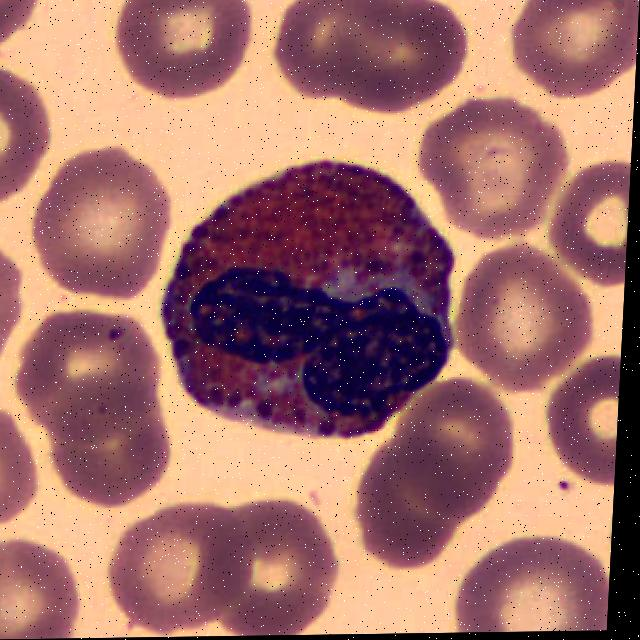eosinophil: (158, 158, 465, 447)
rbc: (422, 96, 576, 255), (31, 142, 176, 294), (14, 306, 163, 452), (450, 250, 593, 402), (194, 501, 353, 637), (384, 377, 527, 527), (319, 0, 484, 125), (111, 505, 260, 635), (258, 0, 407, 124), (344, 441, 476, 580), (444, 525, 612, 633), (108, 0, 257, 112), (47, 396, 180, 519), (508, 0, 640, 113), (542, 352, 621, 510), (548, 155, 631, 291), (0, 536, 90, 640), (0, 65, 60, 216), (0, 400, 42, 530), (0, 248, 35, 382), (0, 0, 61, 62), (604, 488, 614, 576)
